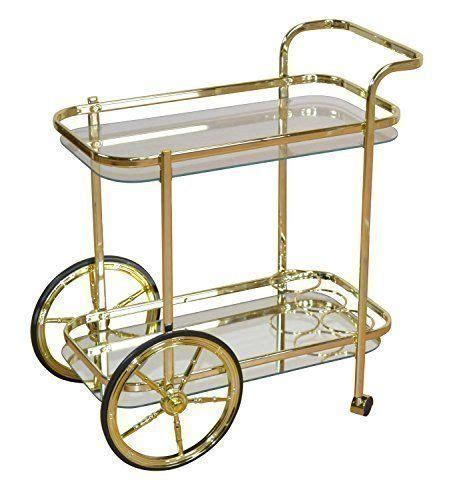Carts: (31, 19, 427, 470)
